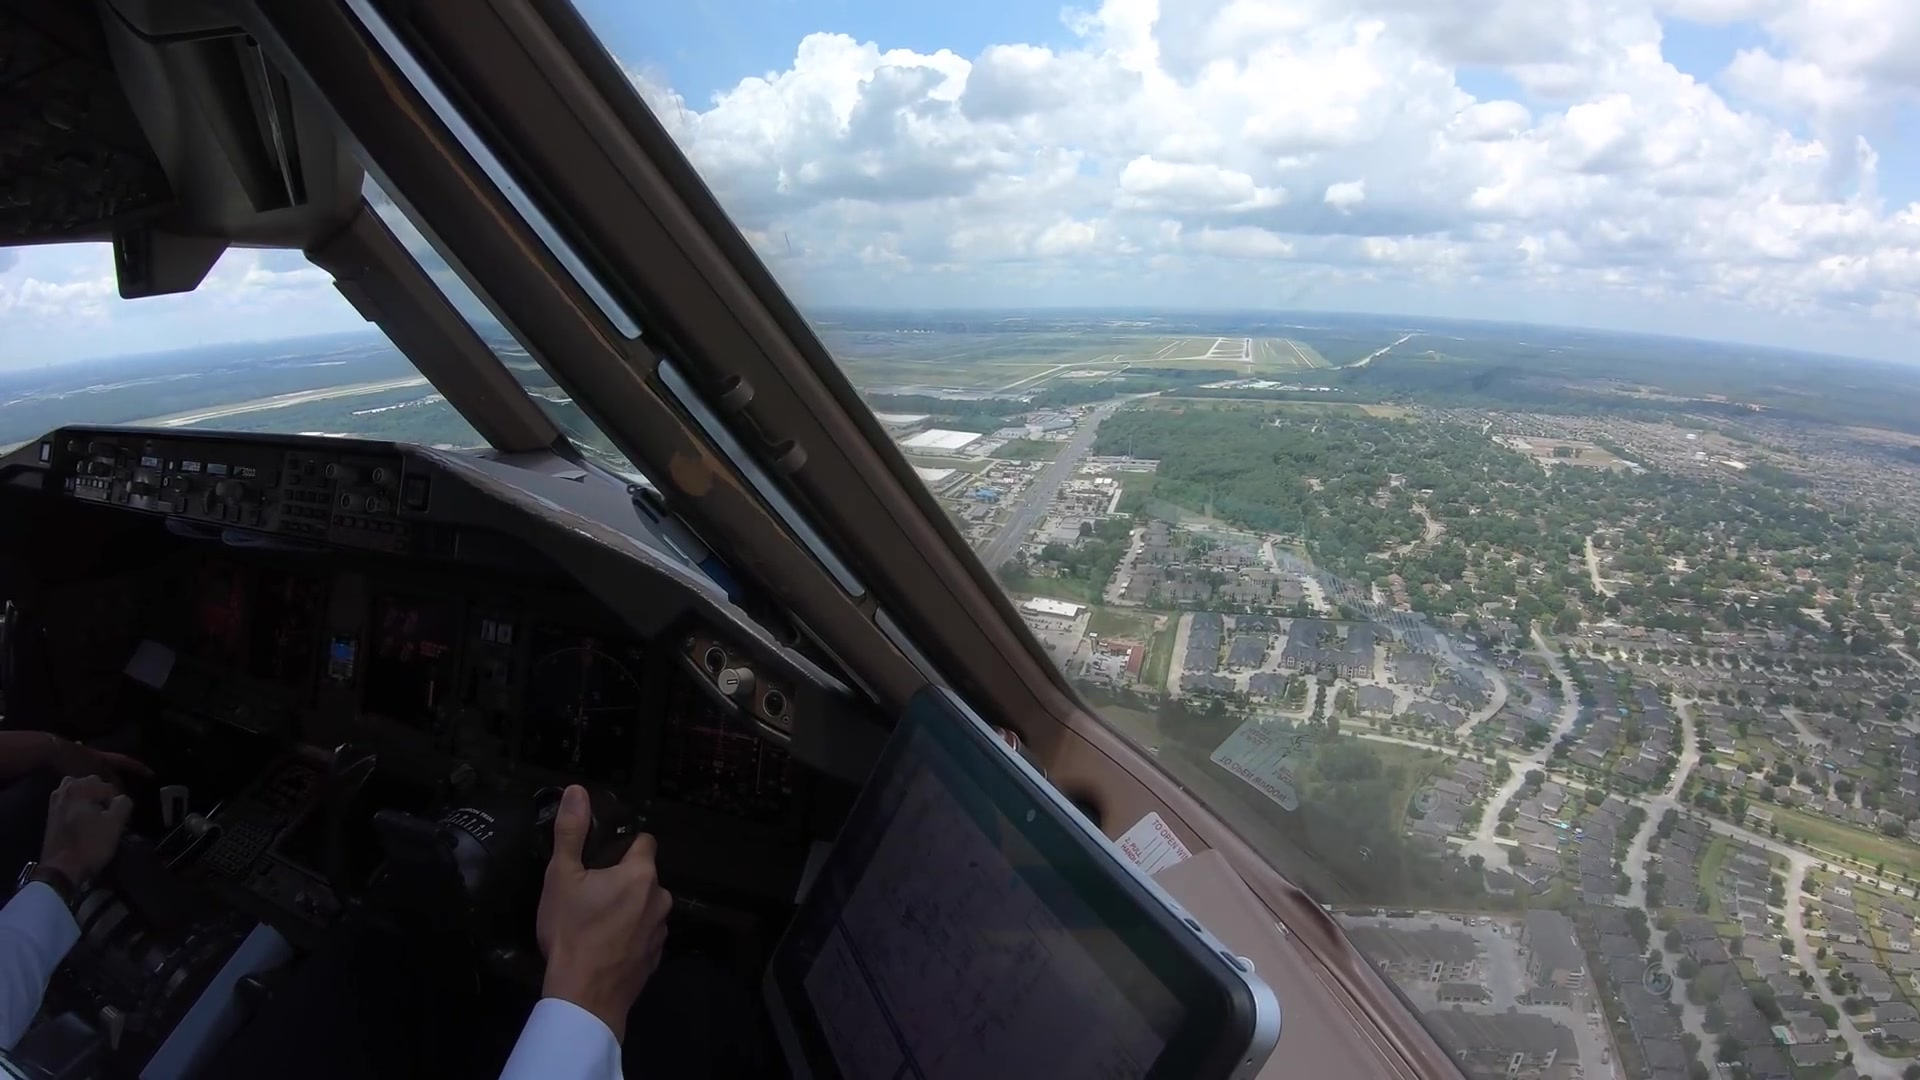runway: (1240, 338, 1254, 363)
